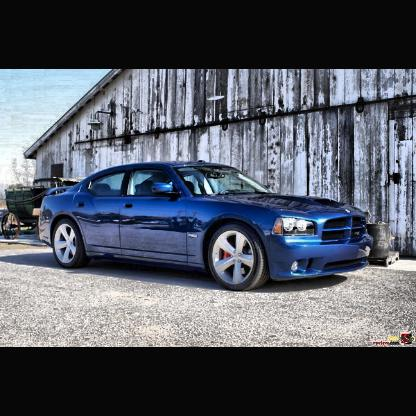Dodge Charger SRT-8 2009: (39, 161, 373, 292)
